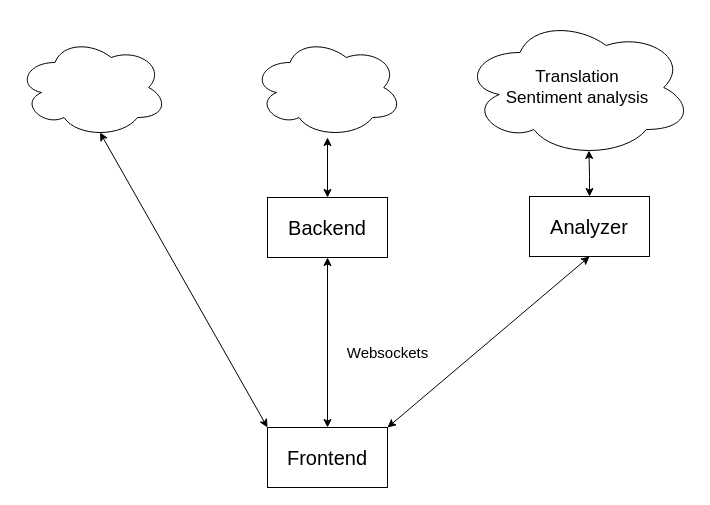
Image size: 710x505. Some labels were removed from this diagram. Here are the shapes that lost their labels. From the top down, the box of each, then its label:
(16, 36, 168, 138): Moodswings (FaaS)
(252, 36, 402, 138): Database
